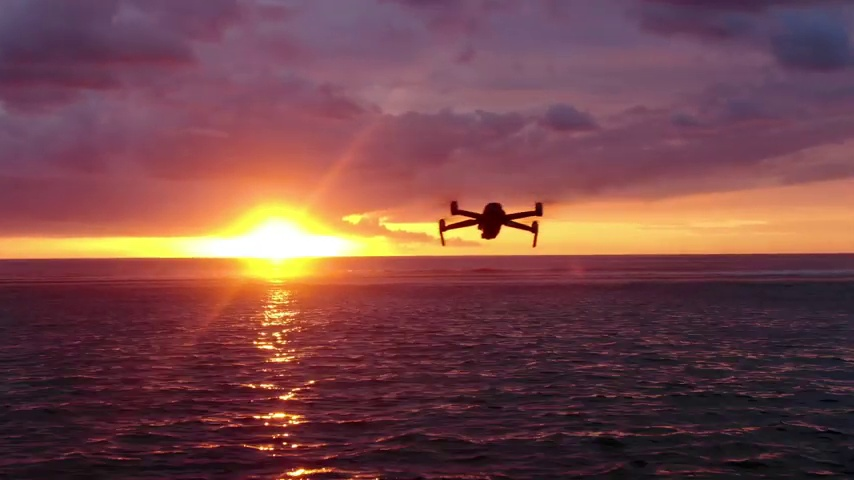drone: (438, 199, 542, 247)
